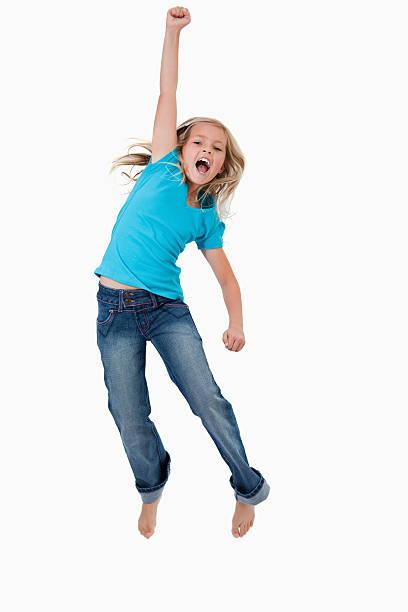Human: (91, 9, 281, 533)
